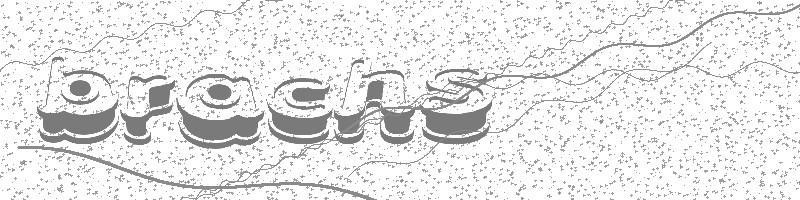a: (176, 73, 267, 152)
b: (36, 54, 120, 147)
c: (267, 77, 329, 144)
r: (119, 72, 176, 146)
s: (419, 68, 491, 144)
w: (331, 59, 415, 147)
